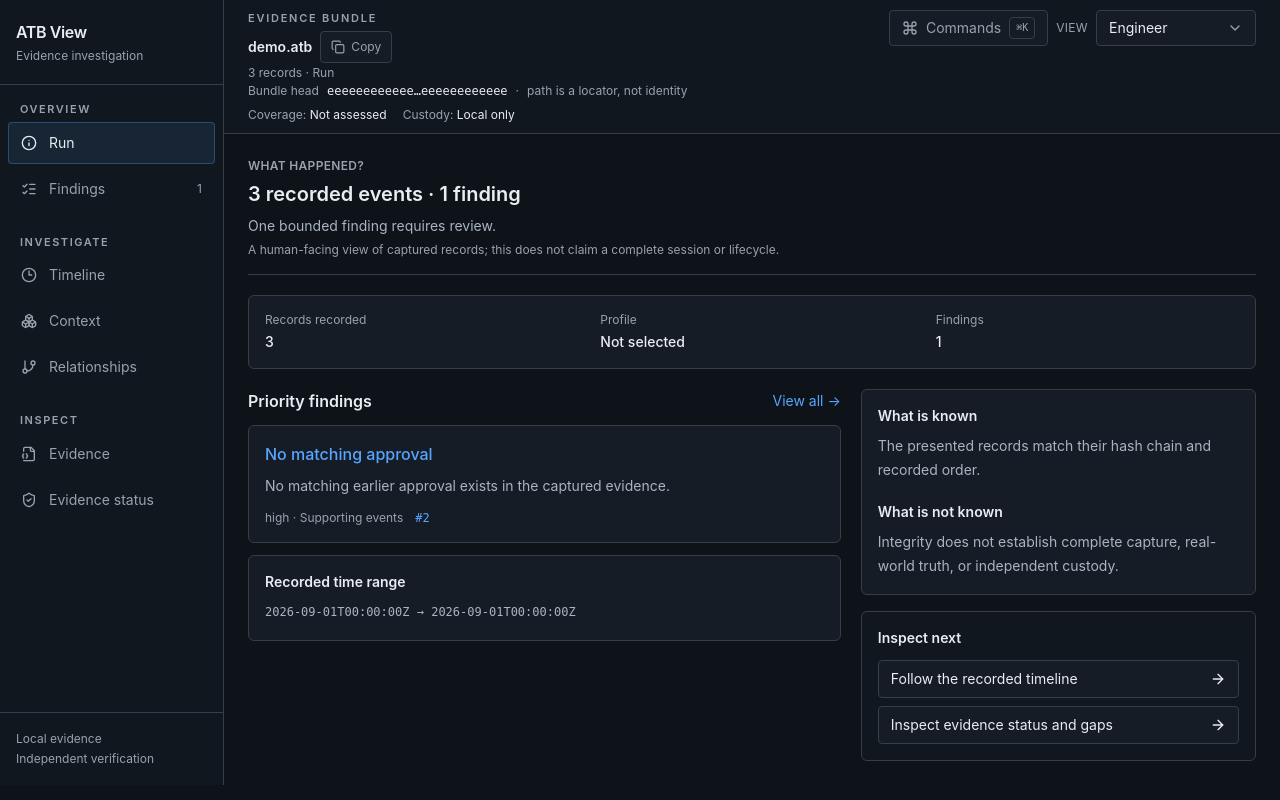
it: ATB View investigation model › keeps the relationship graph collapsed
Click the button "Relationships" at (112, 367), box [8,346,215,388]
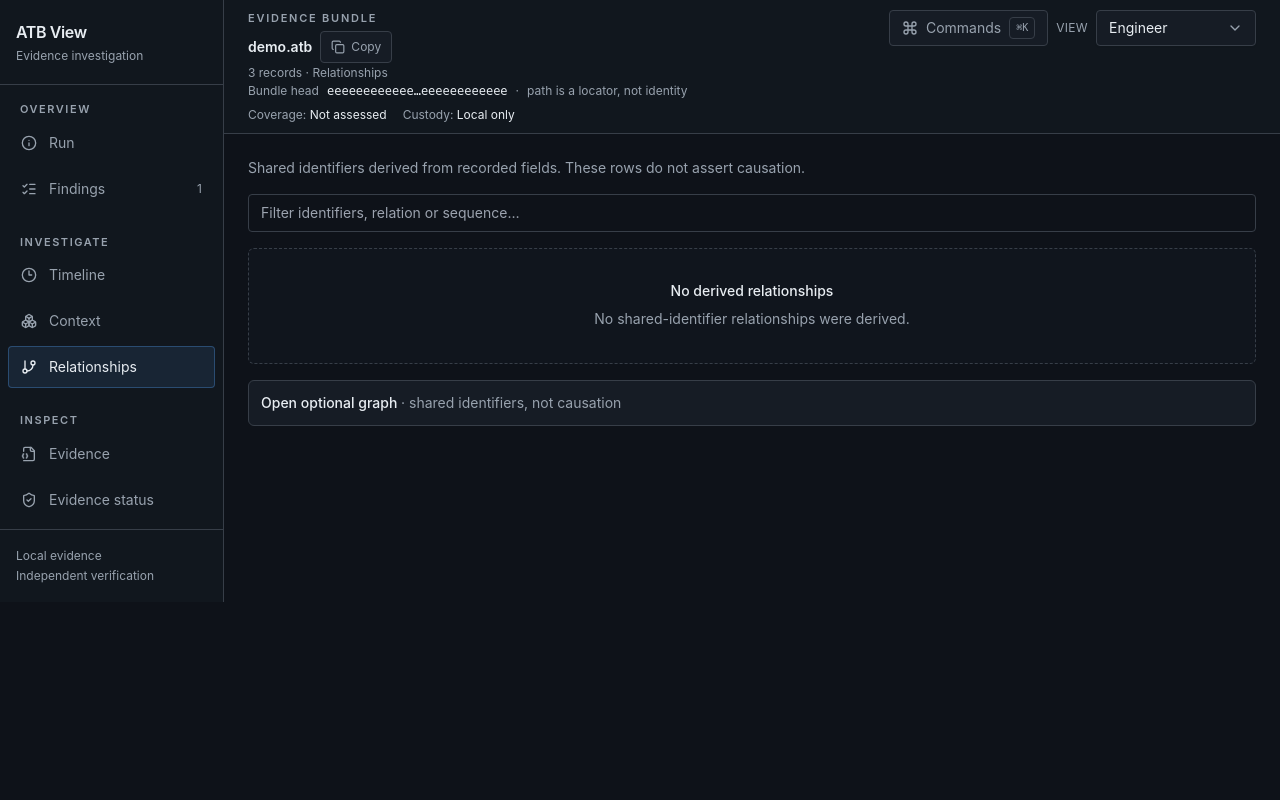
Now the button "Open optional graph · shared identifiers, not causation" is shown, box [249,380,1255,424]
